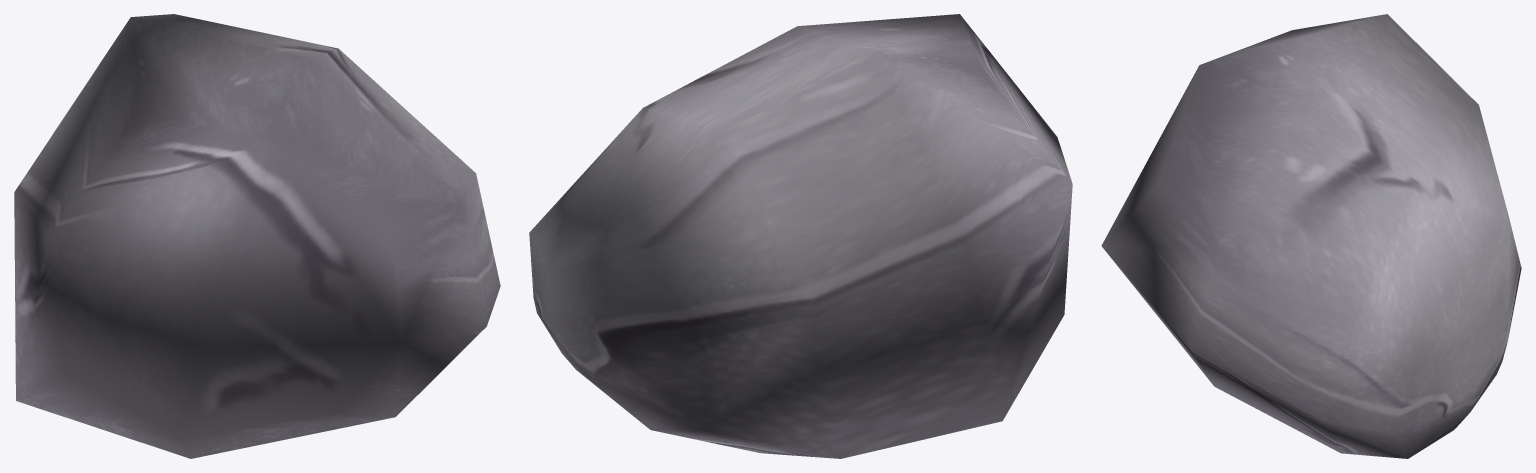
File: Stone.obj
The picture shows the model from 3 angles, left to right: view 1: azimuth 30°, elevation 25°; view 2: azimuth 150°, elevation 25°; view 3: azimuth 270°, elevation 25°; orthographic projection. The views are drawn at different scales.
Visible parts, largest first — view 1: Cube; view 2: Cube; view 3: Cube.
Boxes of the visible parts, x1,y1,x2,y2 form: Cube: (14, 14, 500, 458); Cube: (529, 14, 1072, 458); Cube: (1101, 14, 1521, 458).
Bounding box in the file's own units: 20.28 × 16.94 × 17.99.
1 material, 1 textured.
